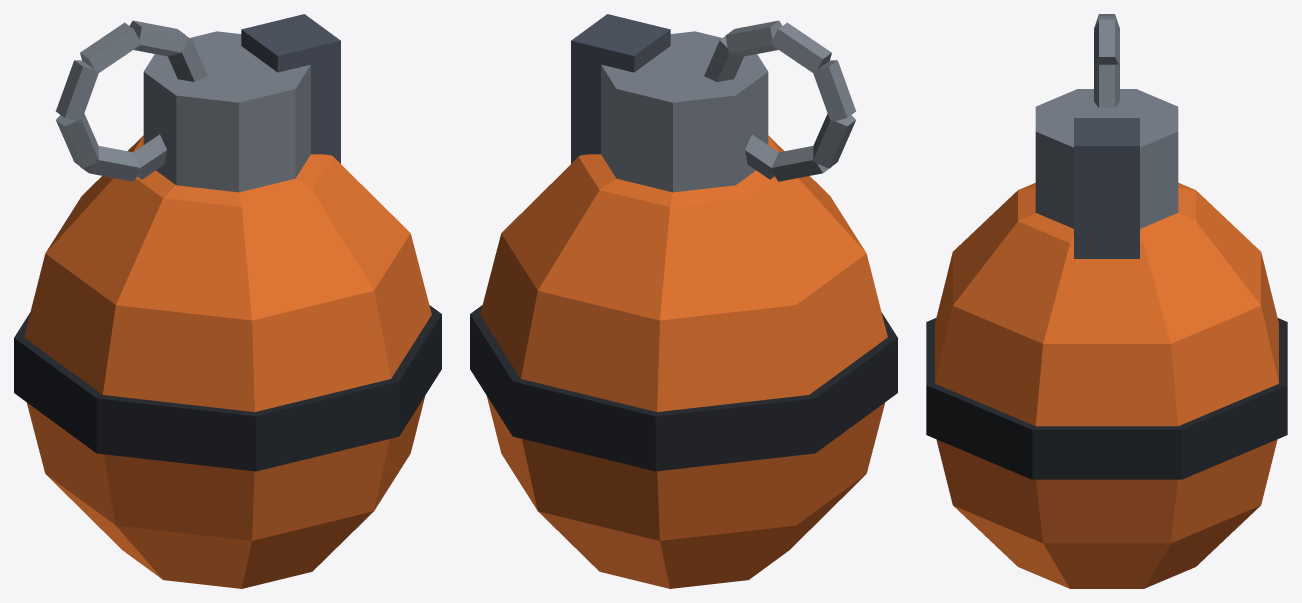
The model's file is paint_grenade_orange.glb.
3 views of the same model, side by side, from view 1: azimuth 30°, elevation 25°; view 2: azimuth 150°, elevation 25°; view 3: azimuth 270°, elevation 25° (orthographic). The views are drawn at different scales.
Visible parts, largest first — view 1: paint_grenade_orange; view 2: paint_grenade_orange; view 3: paint_grenade_orange.
Part boxes in pixels (left/top/right/bottom): paint_grenade_orange: left=14, top=14, right=441, bottom=588; paint_grenade_orange: left=470, top=14, right=897, bottom=588; paint_grenade_orange: left=926, top=14, right=1287, bottom=588.
Bounding box in the file's own units: 0.0656 × 0.1039 × 0.0656.
